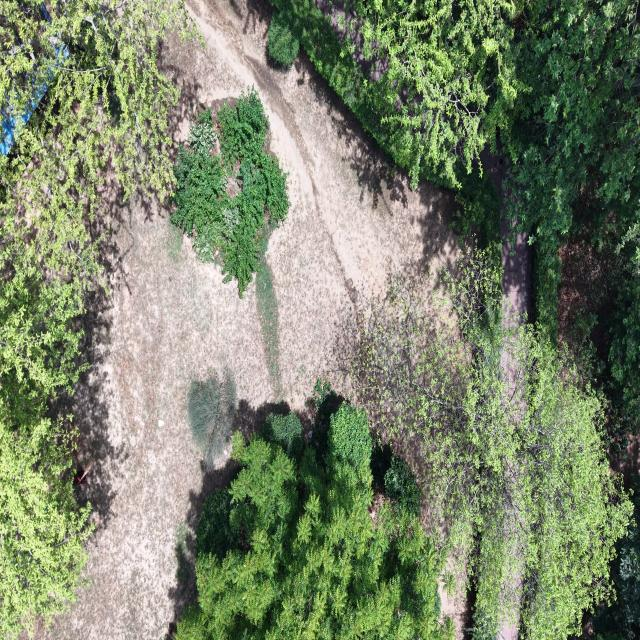DRY_AREA: (38, 0, 457, 639), (165, 0, 455, 402), (480, 146, 532, 336), (481, 147, 532, 334), (480, 143, 531, 327), (481, 149, 531, 334), (481, 148, 532, 327), (558, 230, 623, 362), (558, 232, 621, 350), (558, 232, 620, 348), (315, 0, 388, 81), (501, 206, 531, 332), (501, 216, 532, 327), (611, 434, 639, 480)
VEGETATION_TREE: (269, 0, 639, 638), (273, 0, 639, 469), (273, 0, 639, 430), (0, 0, 192, 637), (352, 254, 631, 638), (273, 0, 638, 272), (176, 403, 452, 639), (441, 328, 631, 638), (503, 0, 639, 433), (273, 0, 521, 186), (0, 0, 193, 239), (503, 0, 639, 330), (0, 236, 90, 637), (344, 0, 520, 186), (559, 230, 639, 639), (171, 88, 289, 296), (0, 411, 92, 637), (558, 230, 639, 457), (593, 475, 639, 639), (601, 257, 639, 433), (187, 370, 237, 468), (452, 171, 502, 264), (256, 227, 281, 395), (371, 438, 422, 516), (196, 490, 237, 557), (384, 457, 421, 515), (262, 413, 303, 457), (268, 14, 299, 68)
